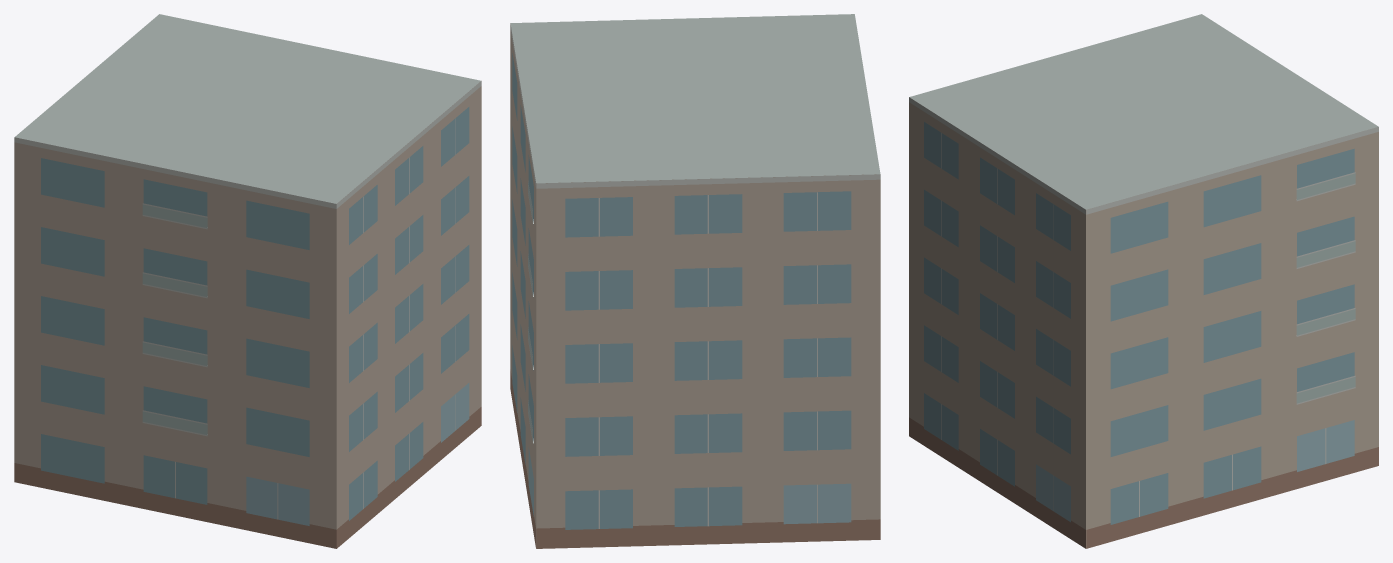
Rendered from survey-upis-32894224.glb.
3 views of the same model, side by side, from view 1: azimuth 30°, elevation 25°; view 2: azimuth 150°, elevation 25°; view 3: azimuth 270°, elevation 25° (orthographic). The views are drawn at different scales.
Parts seen in each view (by area): view 1: survey-upis-32894224.tmp; view 2: survey-upis-32894224.tmp; view 3: survey-upis-32894224.tmp.
Boxes of the visible parts, left/top/right/bottom form: survey-upis-32894224.tmp: left=14, top=14, right=481, bottom=548; survey-upis-32894224.tmp: left=510, top=14, right=880, bottom=548; survey-upis-32894224.tmp: left=909, top=14, right=1378, bottom=548.
Size of the model in its own units: 20.41 by 16.48 by 20.7.
